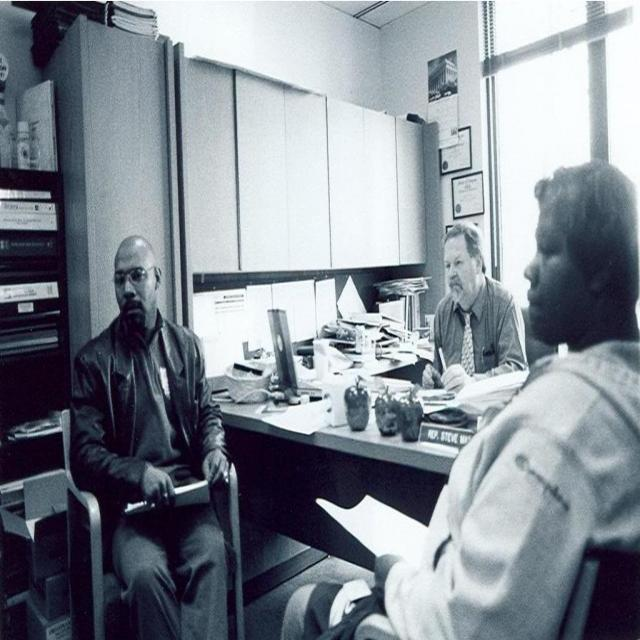desk: (212, 328, 512, 571)
laptop: (266, 308, 327, 396)
person: (279, 164, 640, 640), (70, 234, 241, 640), (430, 222, 528, 396)
